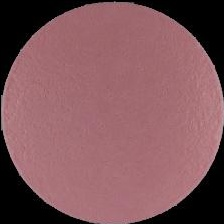54868-1949: (0, 0, 224, 224)
